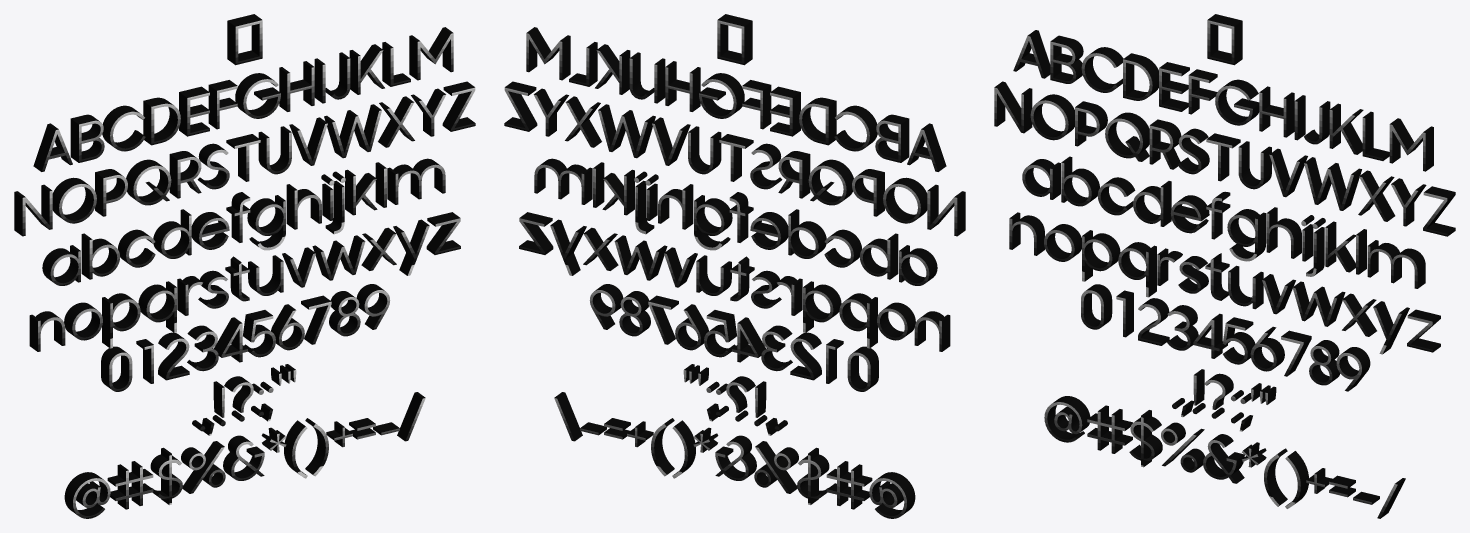
File: font.thin.fbx
The picture shows the model from 3 angles, left to right: view 1: azimuth 30°, elevation 25°; view 2: azimuth 150°, elevation 25°; view 3: azimuth 330°, elevation 25°; orthographic projection.
Parts seen in each view (by area): view 1: MESH thin.symbol.at, MESH thin.upper.w, MESH thin.symbol.percent, MESH thin.lower.m, MESH thin.lower.g, MESH thin.upper.m, MESH thin.symbol.number, MESH thin.replacement, MESH thin.upper.b, MESH thin.upper.g, MESH thin.lower.w, MESH thin.upper.q (+56 smaller); view 2: MESH thin.symbol.at, MESH thin.upper.w, MESH thin.symbol.percent, MESH thin.lower.m, MESH thin.lower.g, MESH thin.upper.m, MESH thin.symbol.number, MESH thin.replacement, MESH thin.upper.b, MESH thin.upper.g, MESH thin.lower.w, MESH thin.upper.q (+56 smaller); view 3: MESH thin.upper.w, MESH thin.symbol.at, MESH thin.lower.m, MESH thin.lower.g, MESH thin.upper.q, MESH thin.upper.n, MESH thin.symbol.number, MESH thin.replacement, MESH thin.symbol.ampersand, MESH thin.upper.m, MESH thin.upper.b, MESH thin.upper.g (+55 smaller).
Part boxes in pixels (x1,y1,x2,y2): MESH thin.symbol.at: (64,472,110,518); MESH thin.upper.w: (324,104,381,158); MESH thin.symbol.percent: (181,441,225,493); MESH thin.lower.m: (387,158,445,204); MESH thin.lower.g: (247,195,285,250); MESH thin.upper.m: (409,27,453,80); MESH thin.symbol.number: (107,461,153,509); MESH thin.replacement: (227,14,262,65); MESH thin.upper.b: (70,114,104,162); MESH thin.upper.g: (235,73,280,118); MESH thin.lower.w: (312,235,365,280); MESH thin.upper.q: (126,159,171,205); MESH thin.symbol.at: (869,472,915,518); MESH thin.upper.w: (598,104,655,158); MESH thin.symbol.percent: (754,441,798,493); MESH thin.lower.m: (534,158,592,204); MESH thin.lower.g: (694,195,732,250); MESH thin.upper.m: (526,27,570,80); MESH thin.symbol.number: (826,461,872,509); MESH thin.replacement: (717,14,752,65); MESH thin.upper.b: (875,114,909,162); MESH thin.upper.g: (699,73,744,118); MESH thin.lower.w: (614,235,667,280); MESH thin.upper.q: (808,159,853,205); MESH thin.upper.w: (1304,157,1361,210); MESH thin.symbol.at: (1044,396,1090,442); MESH thin.lower.m: (1367,240,1425,288); MESH thin.lower.g: (1227,209,1266,261); MESH thin.upper.q: (1105,112,1149,161); MESH thin.upper.n: (994,81,1032,133); MESH thin.symbol.number: (1087,405,1132,453); MESH thin.replacement: (1207,14,1242,65); MESH thin.symbol.ampersand: (1203,434,1244,483); MESH thin.upper.m: (1389,118,1433,171); MESH thin.upper.b: (1050,35,1083,83); MESH thin.upper.g: (1215,79,1259,125).
Size of the model in its own units: 1589 by 50 by 1573.
Materials: 2 (1 with a texture image).
